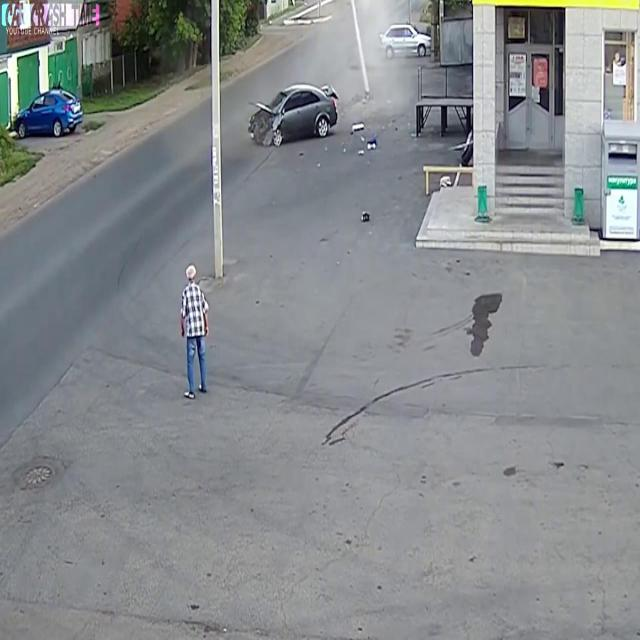accident: (240, 73, 382, 183)
